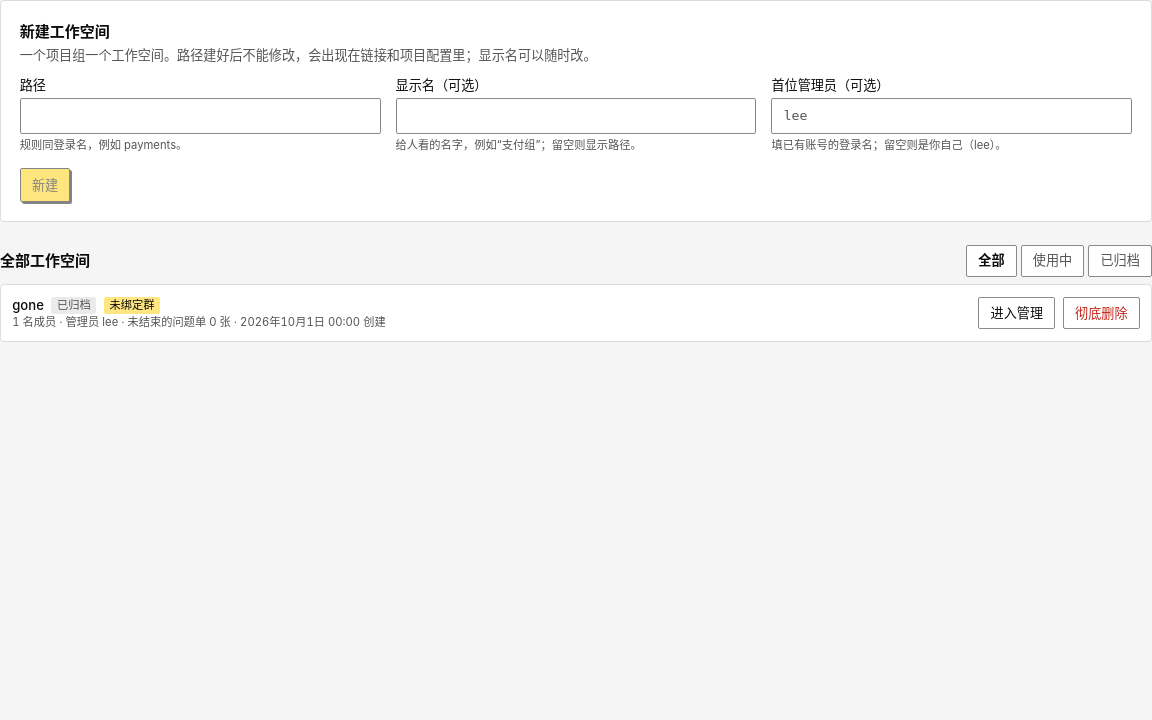
Test: 服务器页：彻底删除须输入完全一致的路径
The width and height of the screenshot is (1152, 720).
Click the button "彻底删除" at (1101, 313), box [1063,297,1140,329]
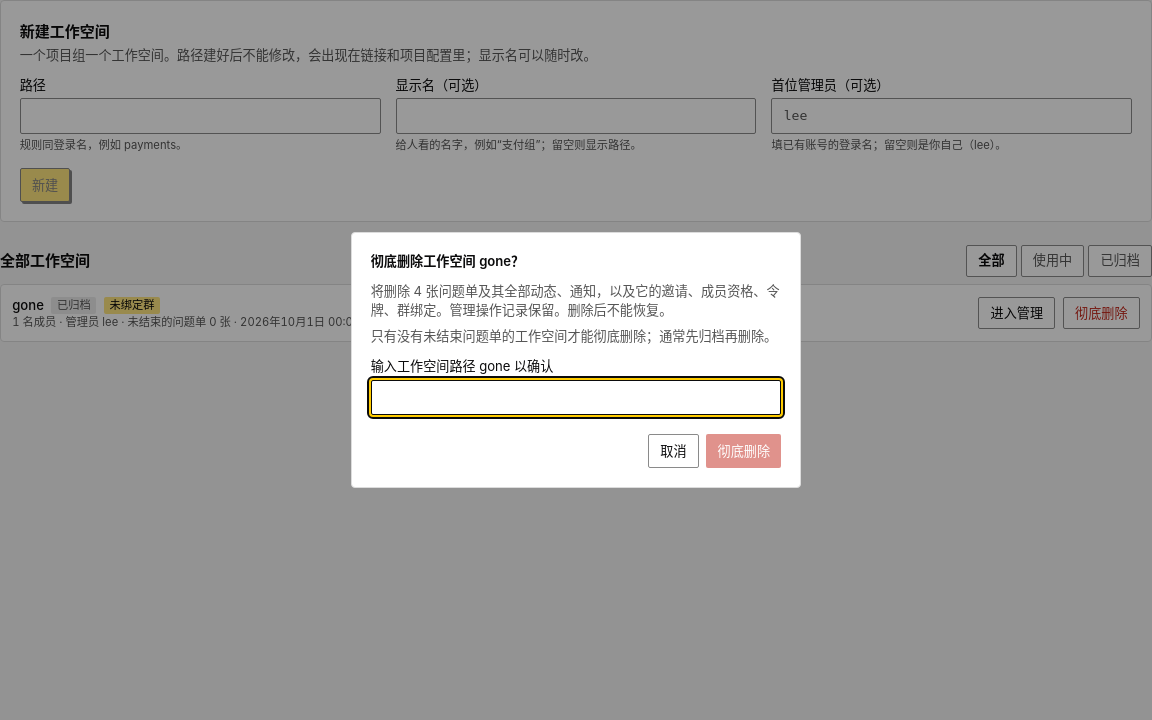
Expected: the text "将删除 4 张问题单及其全部动态、通知，以及它的邀请、成员资格、令牌、群绑定。管理操作记录保留。删除后不能恢复。" is shown, [371,282,781,320]
Expected: the button "彻底删除" below "输入工作空间路径 gone 以确认" is disabled, [706,434,781,468]
Type "gon" into the field labelled "输入工作空间路径 gone 以确认" at (576, 398), box [371,380,781,415]
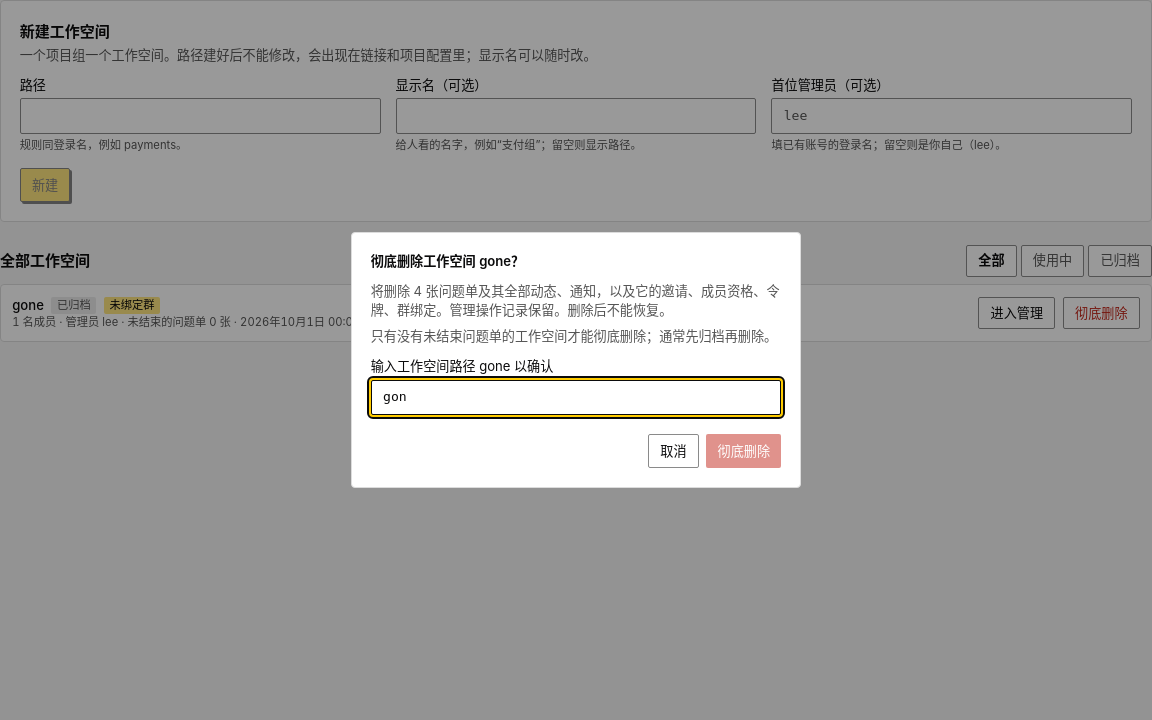
Expected: the button "彻底删除" below "输入工作空间路径 gone 以确认" is disabled, [706,434,781,468]
Replace the text in the field labelled "输入工作空间路径 gone 以确认" with "gone" at (576, 398), box [371,380,781,415]
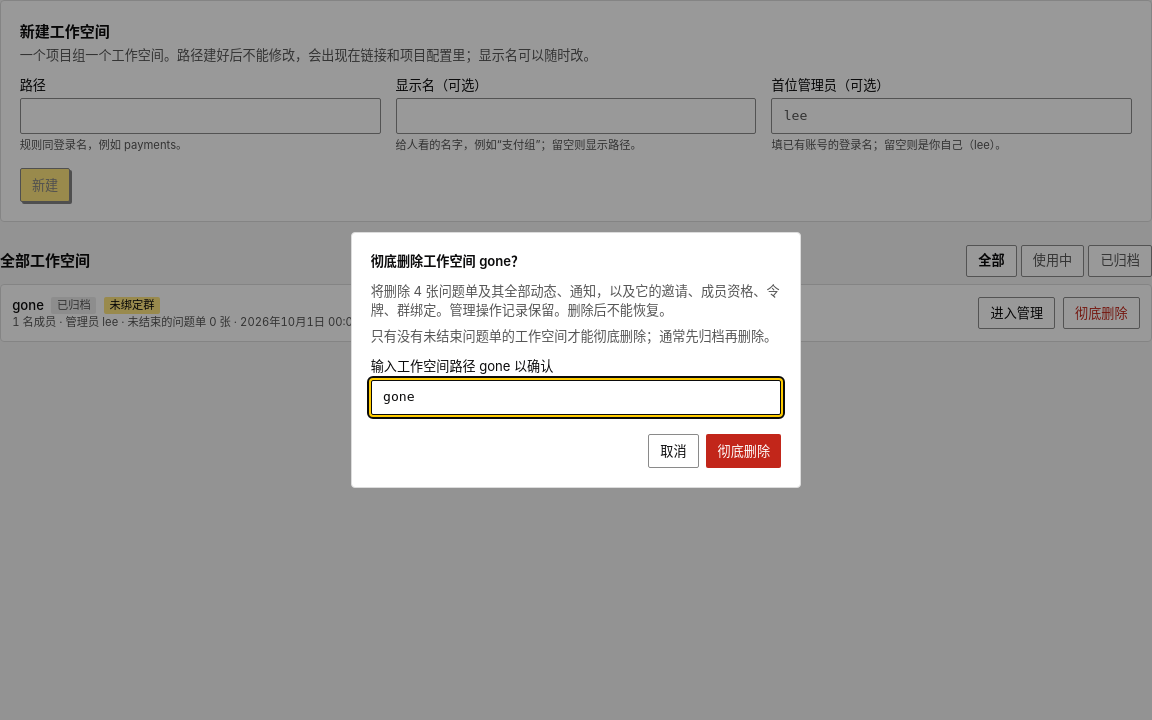
Expected: the button "彻底删除" below "输入工作空间路径 gone 以确认" is enabled
Click the button "彻底删除" below "输入工作空间路径 gone 以确认" at (744, 451), box [706,434,781,468]
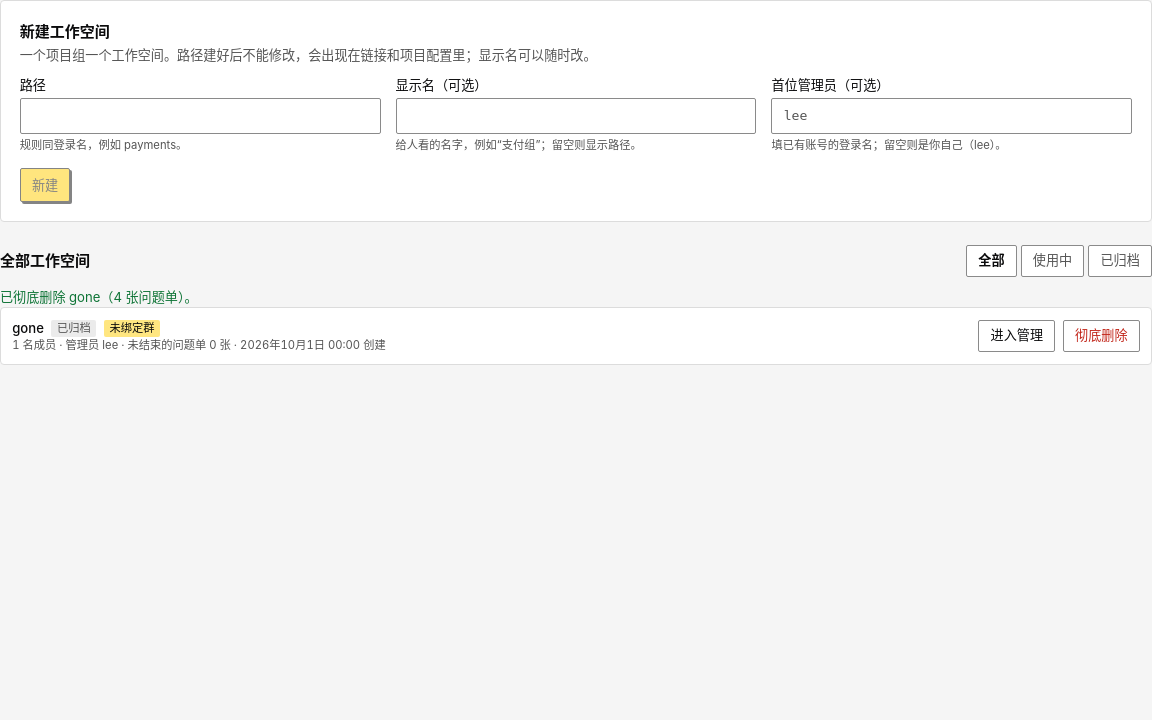
Expected: the text "已彻底删除 gone（4 张问题单）。" is shown, [0,289,198,305]
